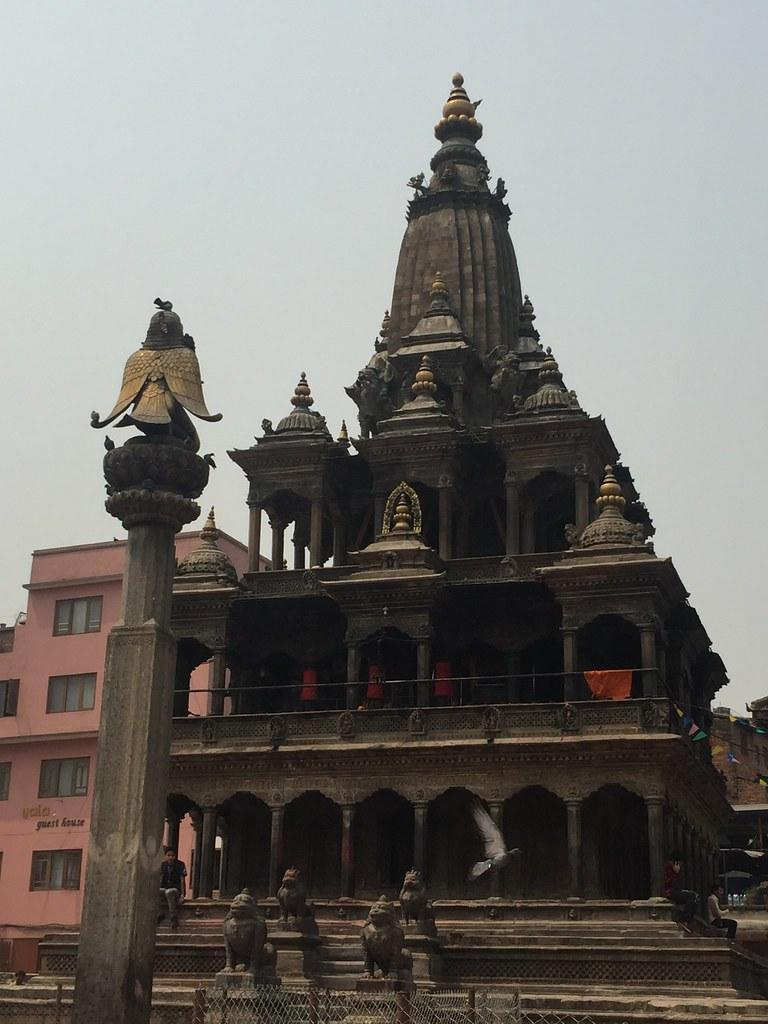temple: (36, 69, 758, 1020)
